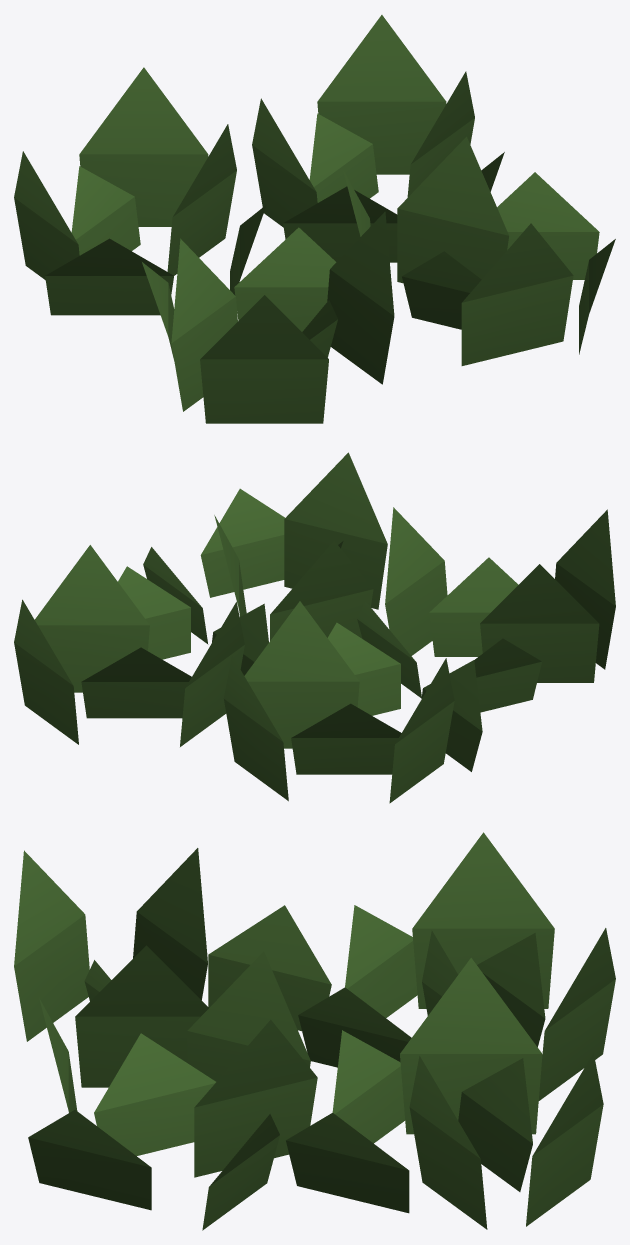
Rendered from grass_leafs_b.glb.
3 renders of one model, top to bottom at view 1: azimuth 30°, elevation 25°; view 2: azimuth 150°, elevation 25°; view 3: azimuth 270°, elevation 25°, orthographic. The views are drawn at different scales.
Visible parts, largest first — view 1: grass_leafs_b; view 2: grass_leafs_b; view 3: grass_leafs_b.
Boxes of the visible parts, x1,y1,x2,y2 form: grass_leafs_b: (14,15,615,423); grass_leafs_b: (14,452,615,803); grass_leafs_b: (14,832,615,1230).
Bounding box in the file's own units: 0.7813 × 0.2339 × 0.8.
